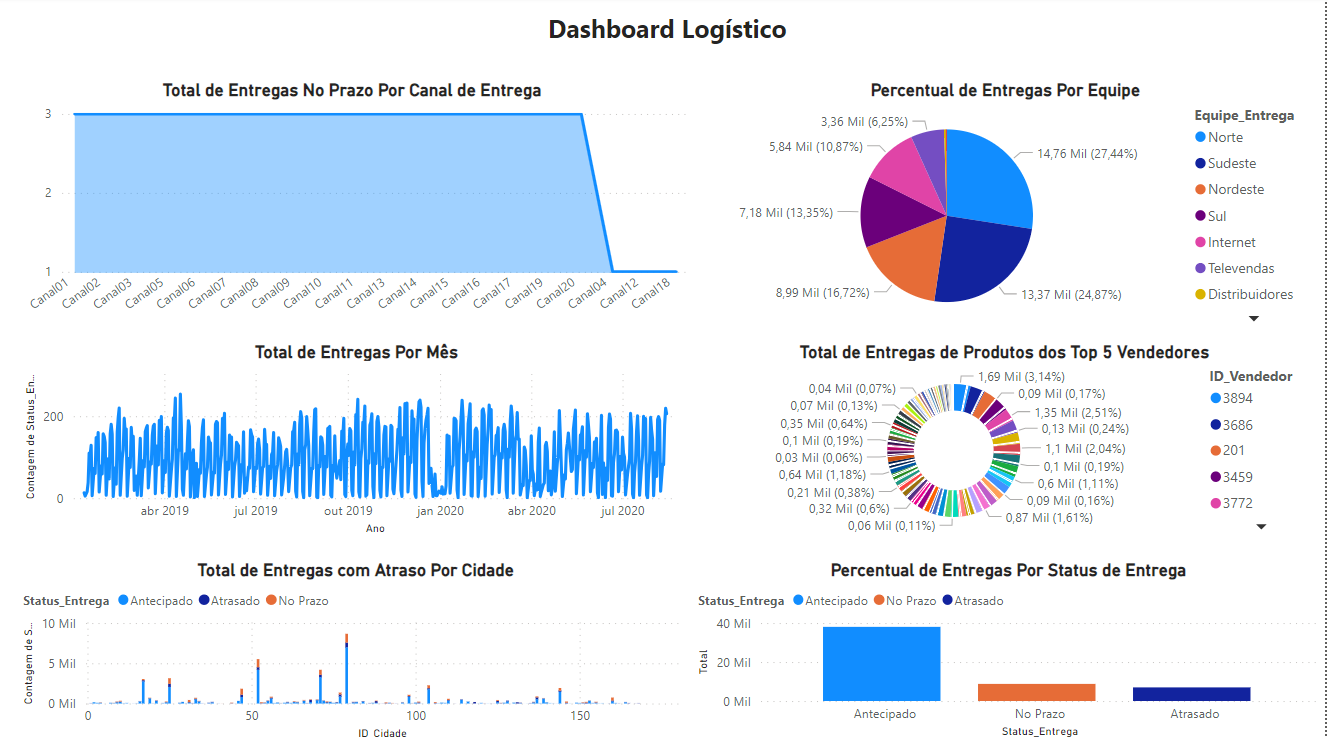

The dashboard page shown, as its layout file describes it:
{"tool":"powerbi","page":{"name":"Logística","canvas":[1280,720],"ordinal":0},"visuals":[{"type":"areaChart","title":"Total de Entregas no Prazo por Canal de Entrega","fields":{"Category":["Logistica.Canal_Entrega"],"Y":["Medidas.TotalEntregas"]},"box":[0,215.3,529.9,234.9],"z":0},{"type":"clusteredBarChart","title":"Percentual de Entregas por Equipe","fields":{"Category":["Logistica.Equipe_Entrega"],"Y":["Medidas.TotalEntregas"]},"box":[548.1,94,451.6,336.7],"z":1000},{"type":"lineChart","title":"Total de Entregas por Mês","fields":{"Category":["Logistica.Data_Entrega_Realizada.Variation.Hierarquia de datas.Mês"],"Y":["Medidas.TotalEntregas"]},"box":[0,485.5,529.9,234.9],"z":2000},{"type":"tableEx","fields":{"Values":["Logistica.ID_Vendedor","Medidas.TotalEntregas","Medidas.RatingVendedores"]},"box":[999.7,11.7,270.1,164.4],"z":2001},{"type":"tableEx","fields":{"Values":["Logistica.ID_Cidade","Medidas.TotalEntregas"]},"box":[1027.1,204.9,216.6,514.2],"z":2002},{"type":"columnChart","title":"Percentual de Entregas por Status","fields":{"Y":["Medidas.TotalEntregas"],"Category":["Logistica.Status_Entrega"]},"box":[548.1,471.1,451.6,249.3],"z":2003},{"type":"card","title":"Total de Entregas","fields":{"Values":["Medidas.TotalEntregas"]},"box":[0,94,264.9,95.3],"z":2004},{"type":"card","title":"Total de Entregas no Prazo","fields":{"Values":["Medidas.TotalEntregasPrazo"]},"box":[264.9,94,264.9,95.3],"z":2005},{"type":"textbox","box":[0,0,771.3,82.2],"z":2006},{"type":"slicer","fields":{"Values":["Logistica.Data_Entrega_Realizada.Variation.Hierarquia de datas.Ano"]},"box":[771.3,11.7,191.8,45.7],"z":2007}]}

Visuals, with their boxes in screenshot pixels (x1, y1, x2, y2), scaled from the page's 1280x720 canvas onto the 1328x738 screenshot:
"Total de Entregas no Prazo por Canal de Entrega" areaChart: [0, 221, 550, 461]
"Percentual de Entregas por Equipe" clusteredBarChart: [569, 96, 1037, 441]
"Total de Entregas por Mês" lineChart: [0, 498, 550, 737]
tableEx - Logistica.ID_Vendedor x Medidas.TotalEntregas: [1037, 12, 1317, 181]
tableEx - Logistica.ID_Cidade x Medidas.TotalEntregas: [1066, 210, 1290, 737]
"Percentual de Entregas por Status" columnChart: [569, 483, 1037, 737]
"Total de Entregas" card: [0, 96, 275, 194]
"Total de Entregas no Prazo" card: [275, 96, 550, 194]
textbox: [0, 0, 800, 84]
slicer - Logistica.Data_Entrega_Realizada.Variation.Hierarquia de datas.Ano: [800, 12, 999, 59]
